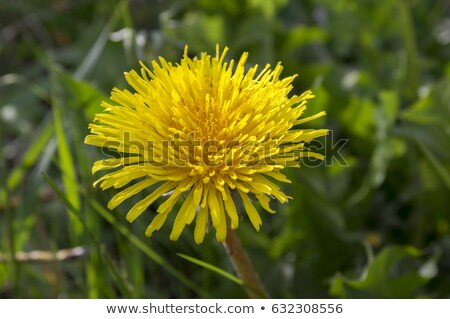dandelion: (103, 75, 292, 219)
